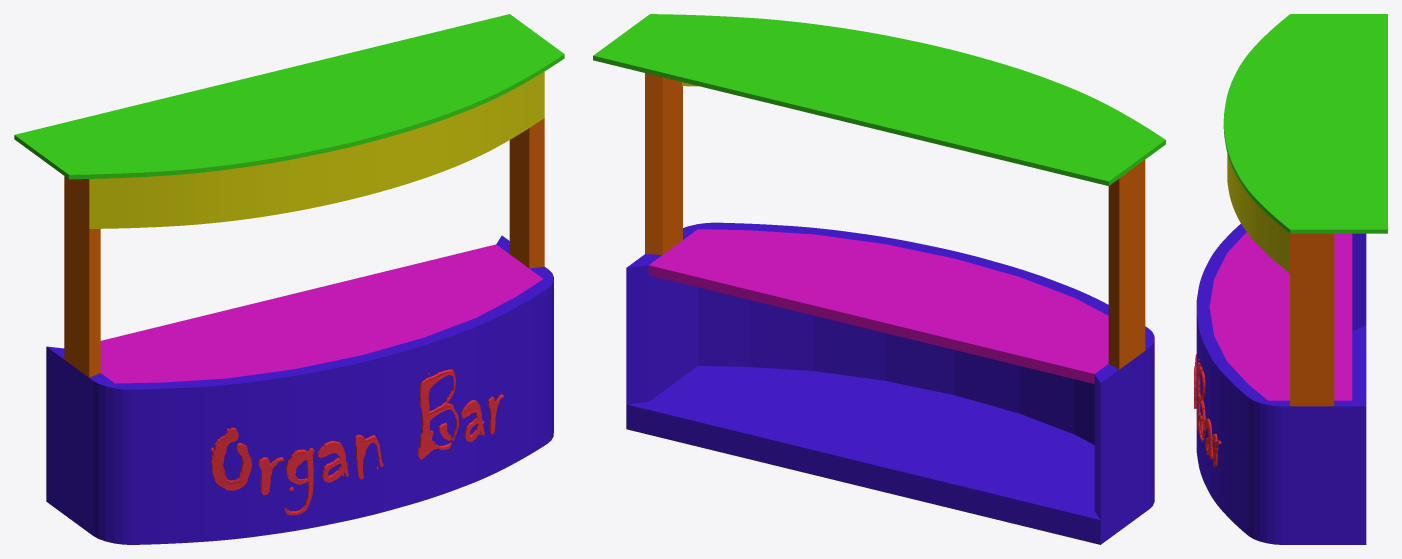
Rendered from OrganbarNeu.fbx.
3 views of the same model, side by side, from view 1: azimuth 30°, elevation 25°; view 2: azimuth 150°, elevation 25°; view 3: azimuth 270°, elevation 25° (orthographic). The views are drawn at different scales.
Parts seen in each view (by area): view 1: Organ Bar, Schriftzug; view 2: Organ Bar; view 3: Organ Bar, Schriftzug.
Part boxes in pixels (<box>): Organ Bar: <box>14,14,564,544</box>; Schriftzug: <box>210,369,503,515</box>; Organ Bar: <box>593,14,1165,544</box>; Organ Bar: <box>1196,14,1387,544</box>; Schriftzug: <box>1194,354,1221,466</box>.
Size of the model in its own units: 326 by 228 by 124.
